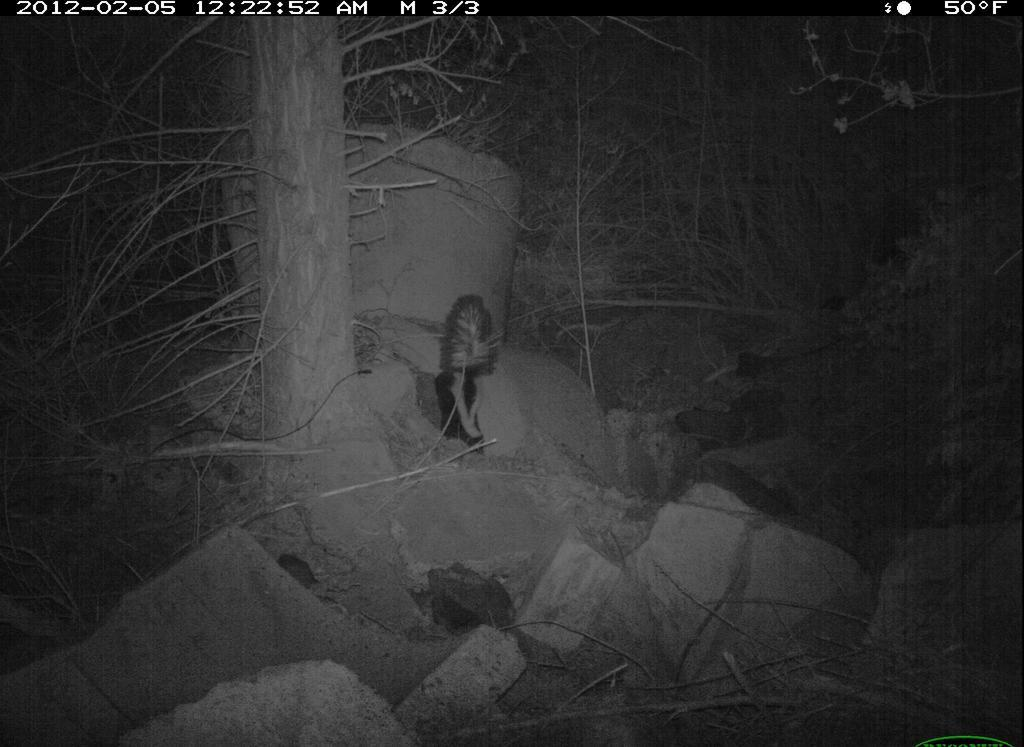skunk: (409, 285, 525, 454)
